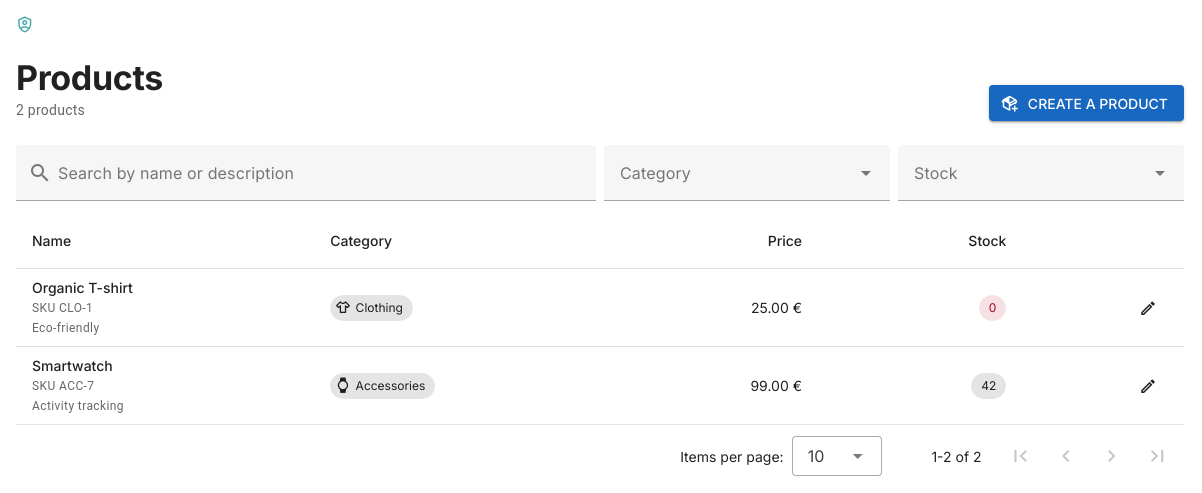
Test: AdminProducts.vue › filters the products by name or description
In the field labelled "Search by name or description": (318, 173) [52,145,584,201], type "smart"
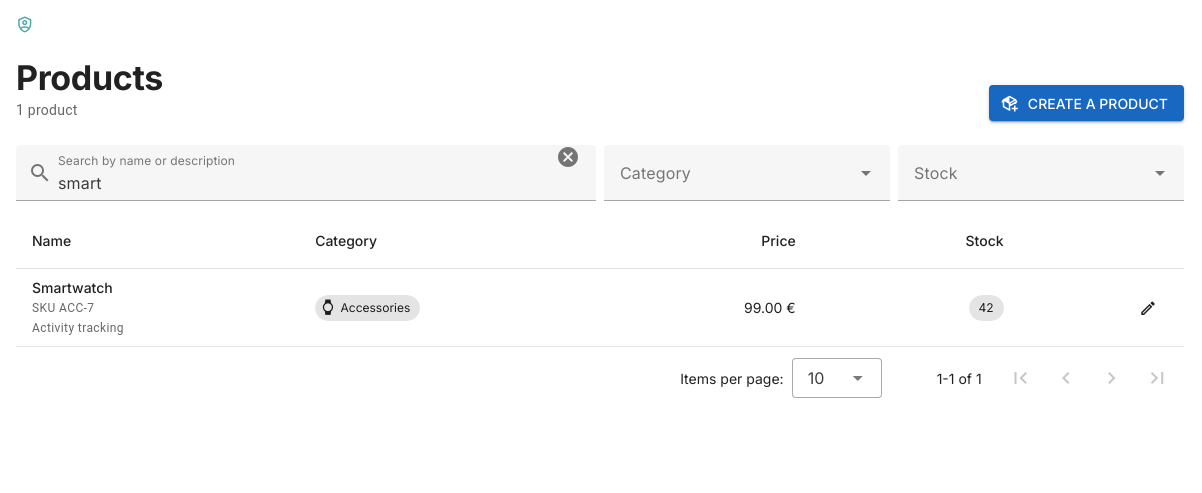
Expected: the row that starts with "Smartwatch" is shown, [32,279,113,296]
Result: the text "1 product" is shown at [16,102,78,118]
